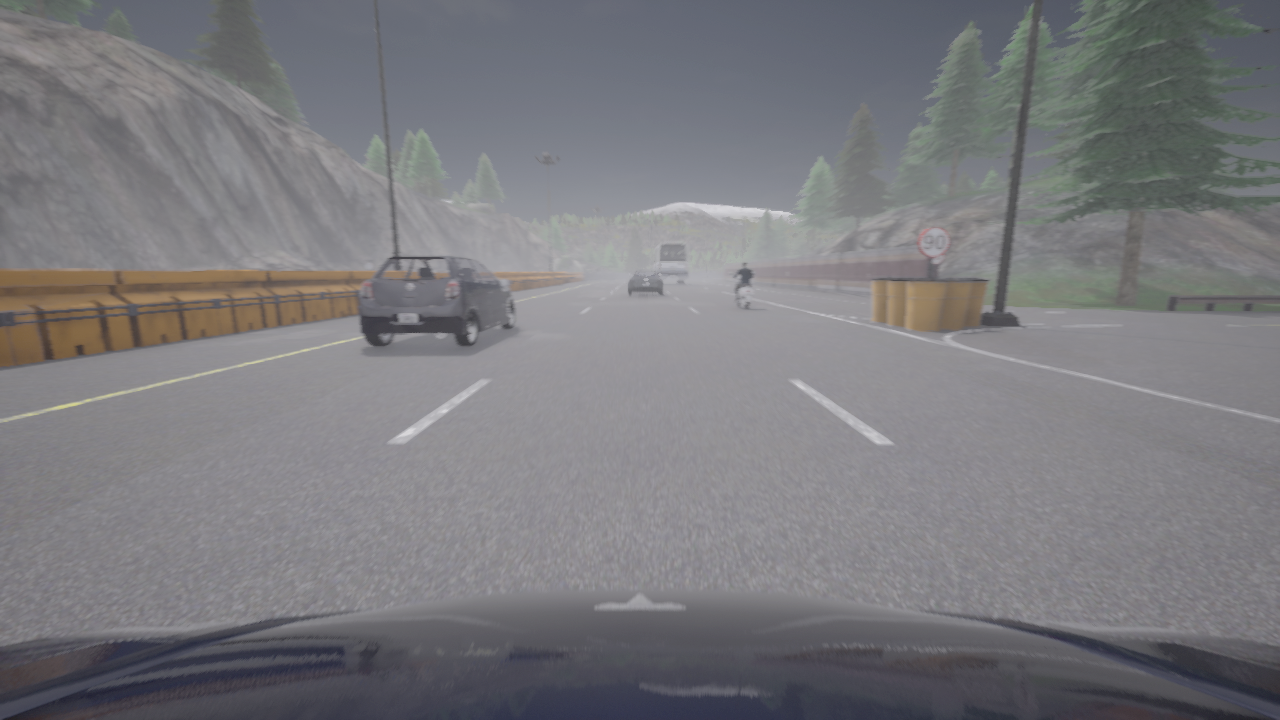cyclist: (0, 588, 1279, 719), (359, 255, 515, 346), (649, 242, 688, 283), (627, 269, 663, 295), (730, 272, 754, 309)
